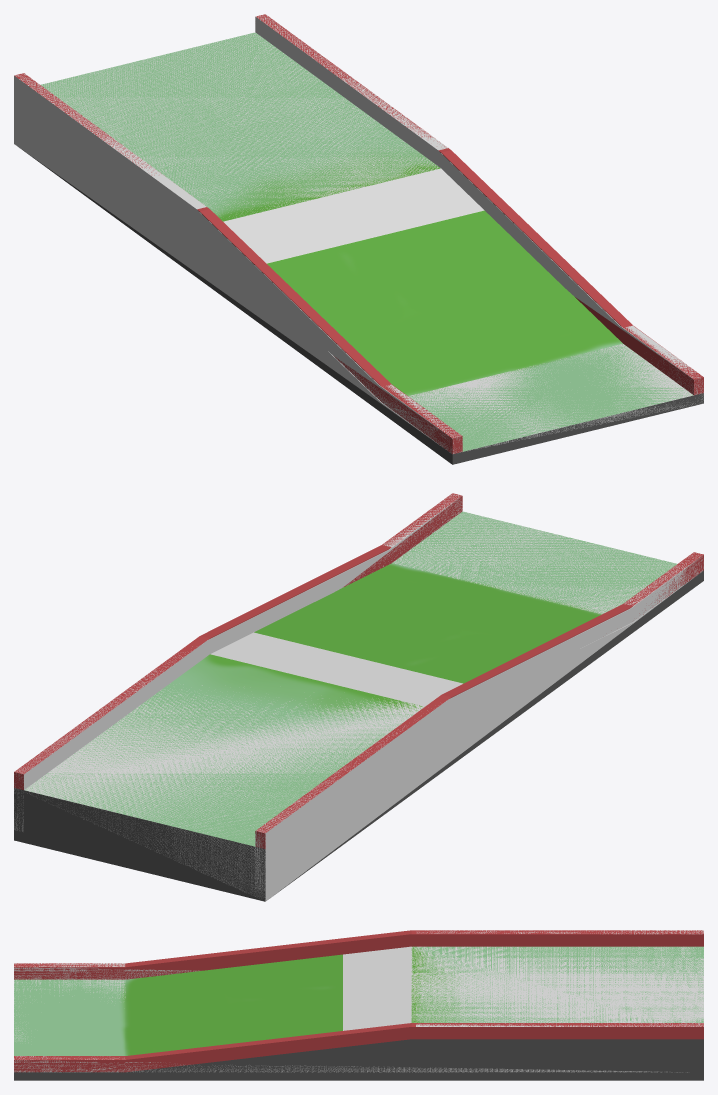
File: leveldesign_test1.fbx
3 renders of one model, top to bottom at view 1: azimuth 30°, elevation 25°; view 2: azimuth 150°, elevation 25°; view 3: azimuth 270°, elevation 25°, orthographic. The views are drawn at different scales.
Parts seen in each view (by area): view 1: arena, col_01_arena, col_02_barrierA, barier, col_03_barrierB, base; view 2: arena, col_01_arena, col_02_barrierA, base, barier, col_03_barrierB; view 3: arena, col_01_arena, barier, base, col_03_barrierB, col_02_barrierA.
Boxes of the visible parts, x1,y1,x2,y2 form: arena: [41, 32, 692, 451]; col_01_arena: [14, 32, 703, 451]; col_02_barrierA: [14, 73, 462, 453]; barier: [14, 14, 703, 453]; col_03_barrierB: [255, 14, 703, 394]; base: [23, 150, 703, 464]; arena: [25, 511, 676, 846]; col_01_arena: [15, 511, 694, 901]; col_02_barrierA: [255, 552, 703, 890]; base: [14, 570, 703, 901]; barier: [14, 493, 703, 848]; col_03_barrierB: [14, 493, 462, 831]; arena: [14, 946, 703, 1055]; col_01_arena: [14, 946, 703, 1042]; barier: [14, 930, 703, 1072]; base: [14, 1039, 703, 1080]; col_03_barrierB: [14, 1023, 703, 1072]; col_02_barrierA: [14, 930, 703, 979].
Bounding box in the file's own units: 5010 × 1300 × 15100.
